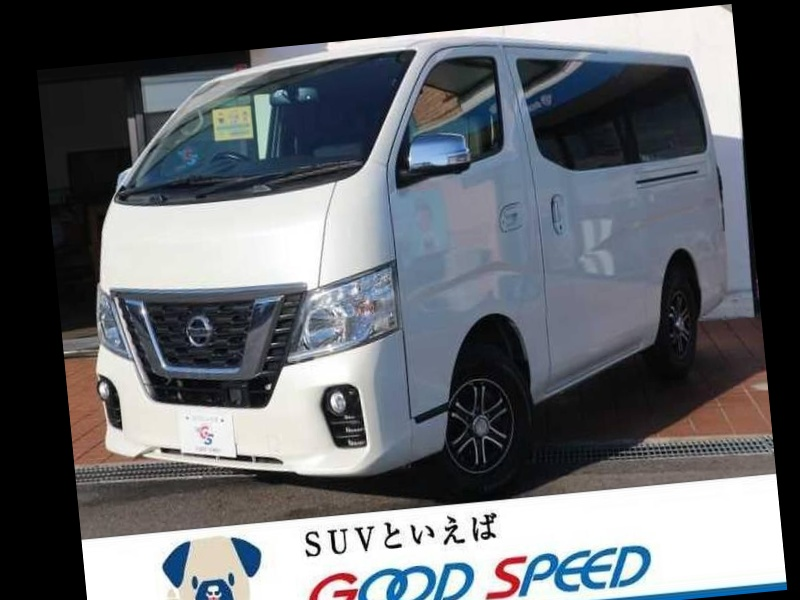van: (62, 16, 753, 495)
